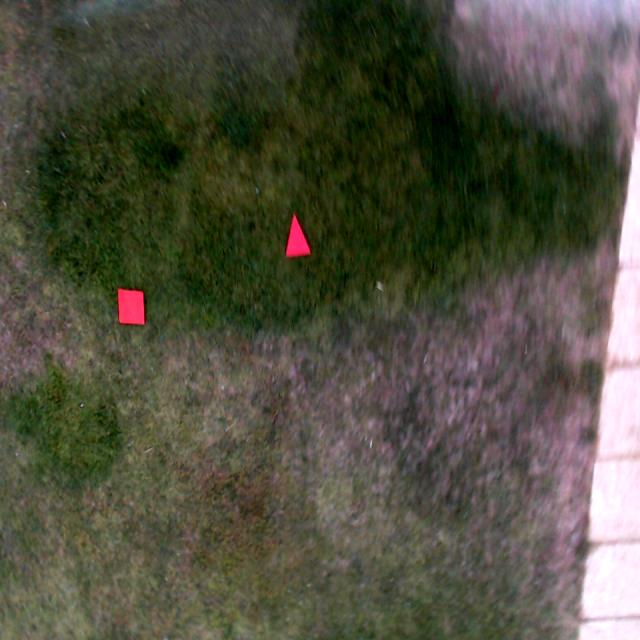red_square: (118, 291, 144, 325)
red_triangle: (285, 212, 312, 260)
